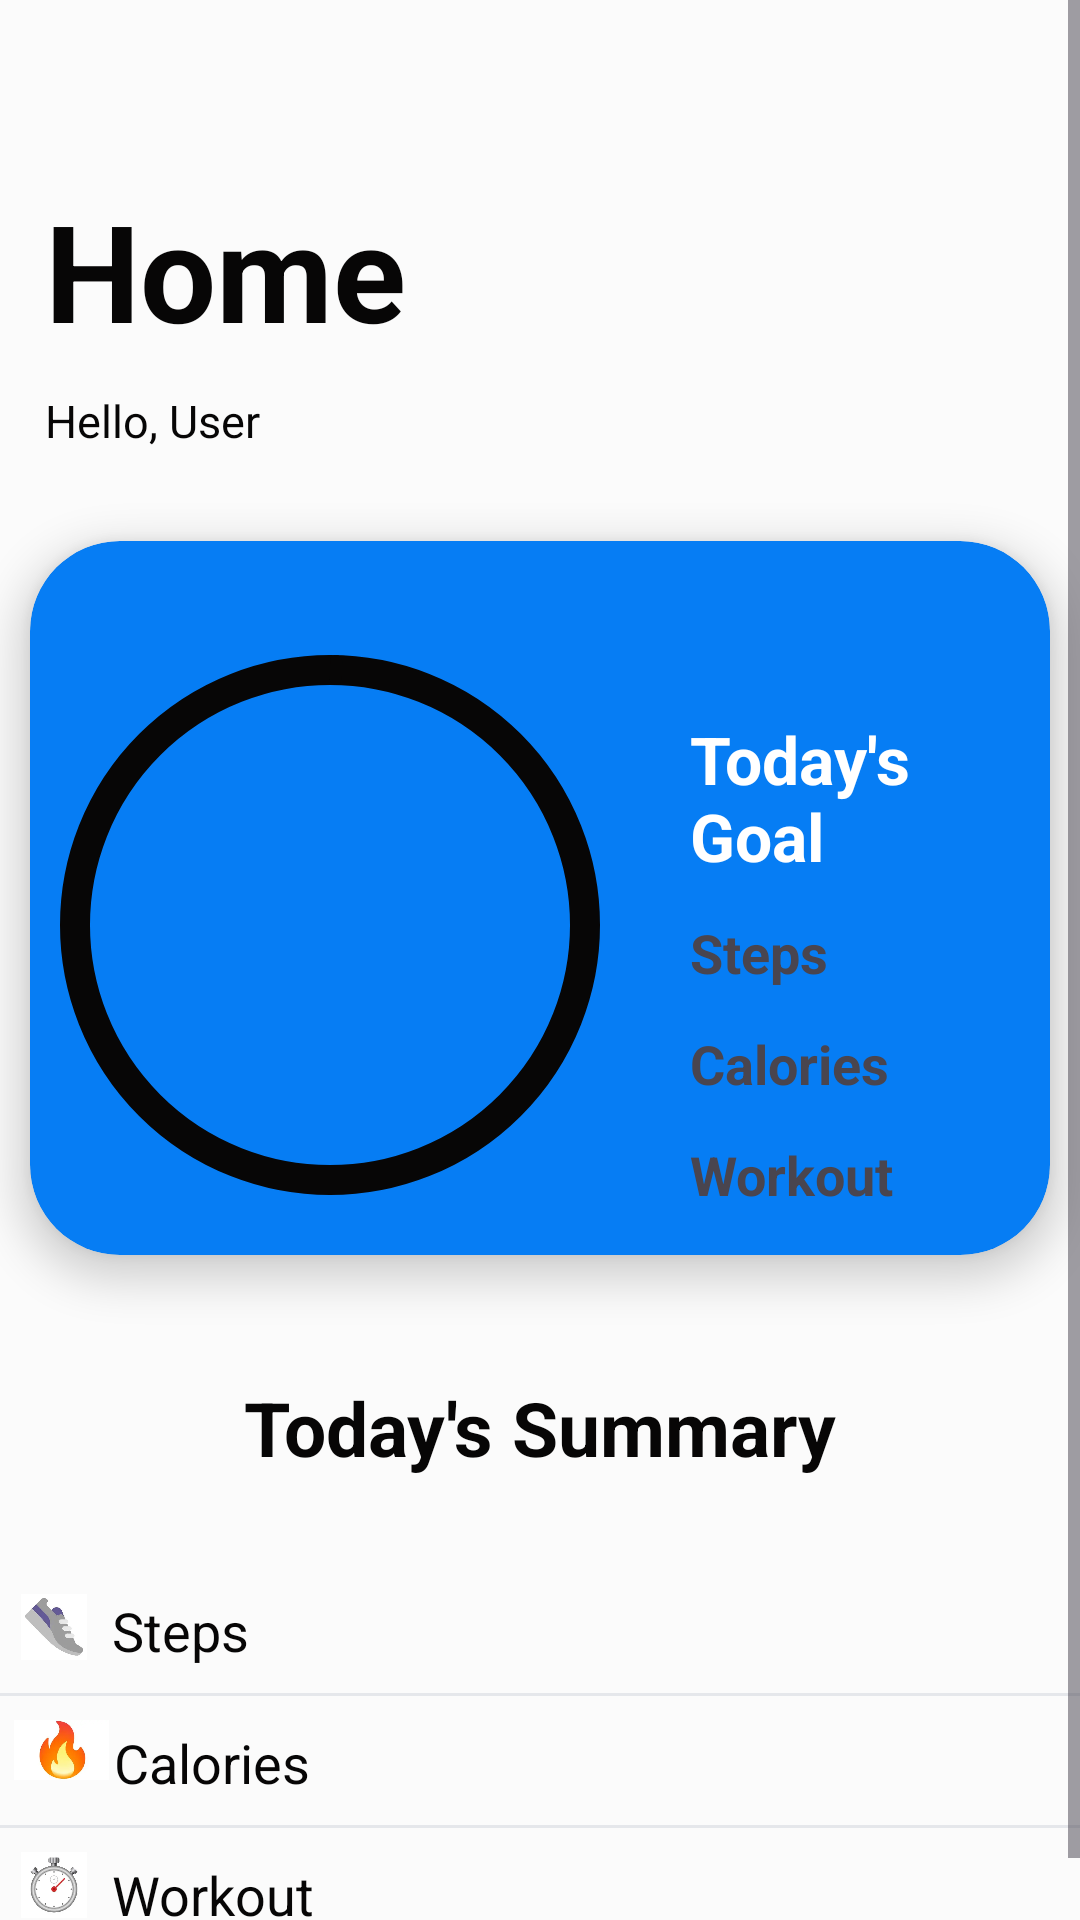

Icon click points for this 1080px x 1920px phone screenshot, format (x=x, y=y):
fire: (x=62, y=1750)
shoe: (x=54, y=1627)
time: (x=54, y=1885)
